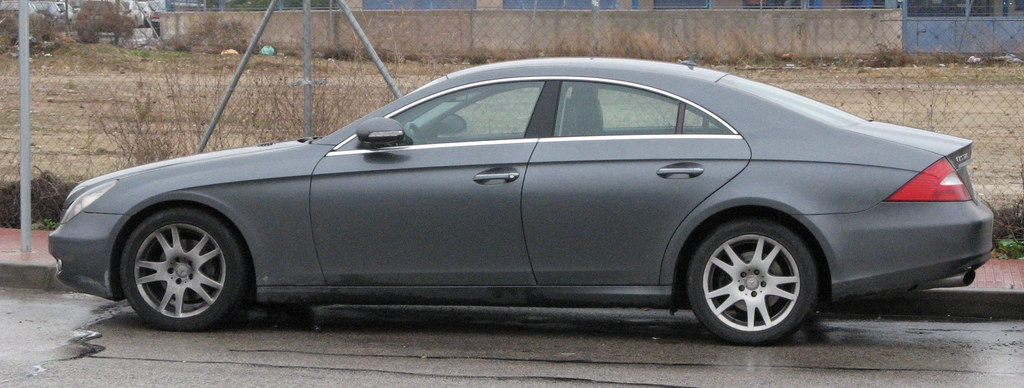Car: (48, 56, 993, 346)
